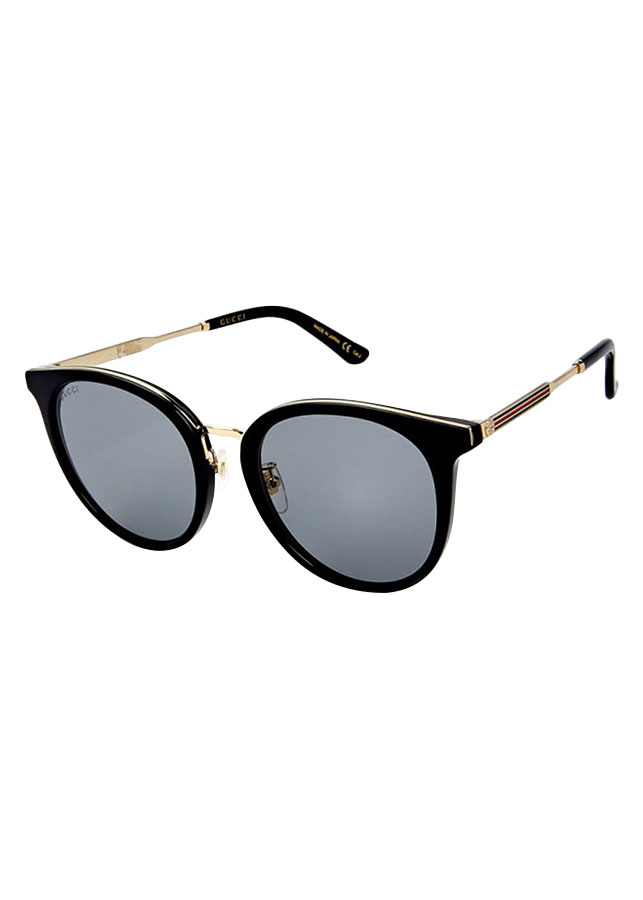Gucci: (215, 307, 250, 329)
